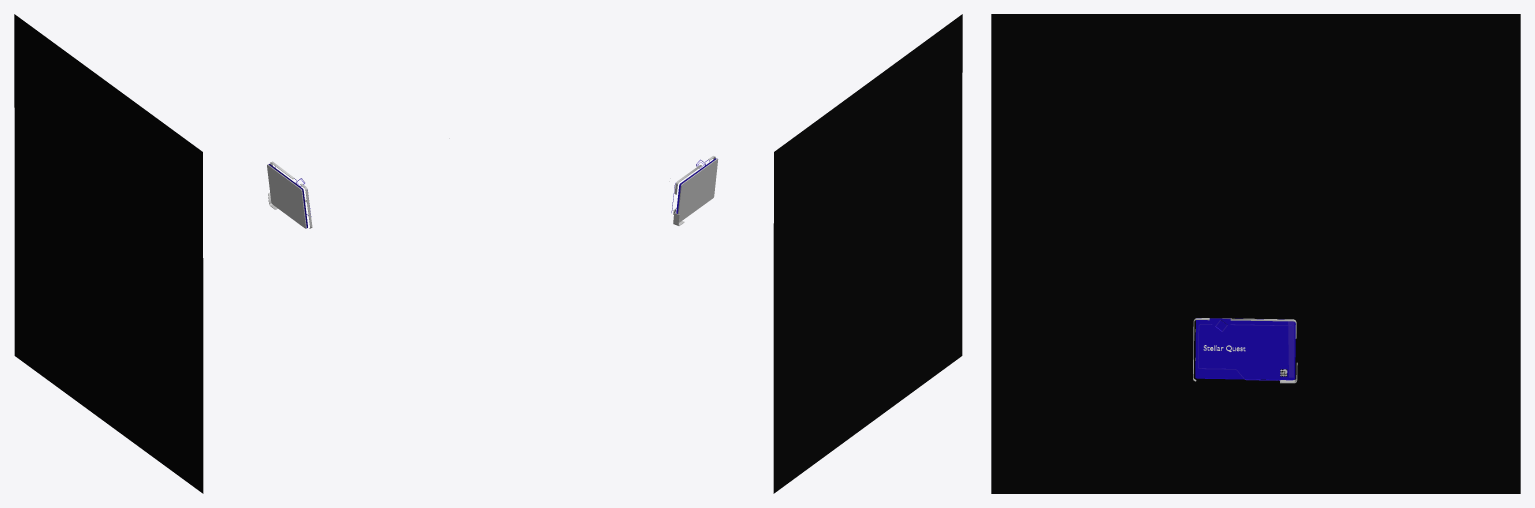
File: stellar-quest.obj
3 renders of one model, left to right at view 1: azimuth 30°, elevation 25°; view 2: azimuth 150°, elevation 25°; view 3: azimuth 270°, elevation 25°, orthographic. The views are drawn at different scales.
Parts seen in each view (by area): view 1: Plane.005, Plane.004; view 2: Plane.005, Plane.004; view 3: Plane.005, Plane.002.
Boxes of the visible parts, bbox=[...] form: Plane.005: bbox=[14, 14, 203, 493]; Plane.004: bbox=[267, 164, 306, 228]; Plane.005: bbox=[773, 14, 962, 493]; Plane.004: bbox=[678, 159, 718, 222]; Plane.005: bbox=[991, 14, 1520, 493]; Plane.002: bbox=[1195, 319, 1295, 380].
Bounding box in the file's own units: 38.21 × 34.18 × 34.18.
Materials: 10 (1 with a texture image).
